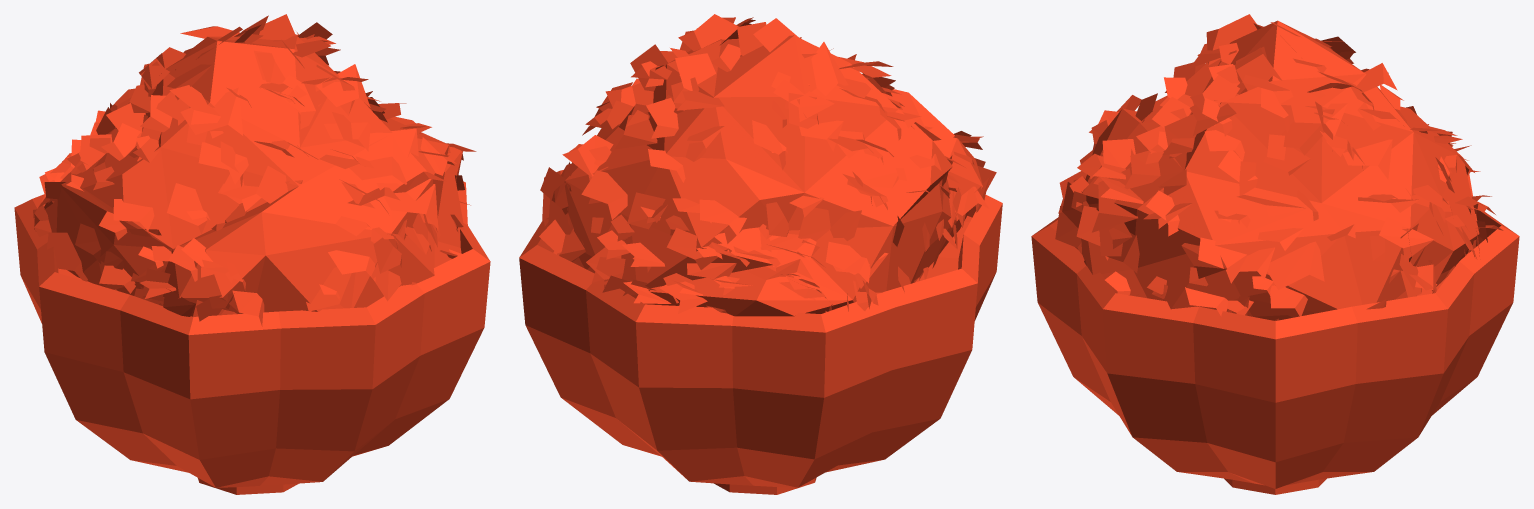
File: SM_Flowerpot_City.fbx
3 views of the same model, side by side, from view 1: azimuth 30°, elevation 25°; view 2: azimuth 150°, elevation 25°; view 3: azimuth 270°, elevation 25° (orthographic). The views are drawn at different scales.
Visible parts, largest first — view 1: SM_Flowerpot_City; view 2: SM_Flowerpot_City; view 3: SM_Flowerpot_City.
Boxes of the visible parts, <box> form: SM_Flowerpot_City: <box>14,14,490,494</box>; SM_Flowerpot_City: <box>519,14,1002,494</box>; SM_Flowerpot_City: <box>1031,14,1519,494</box>.
Size of the model in its own units: 0.5791 by 0.58 by 0.5791.
